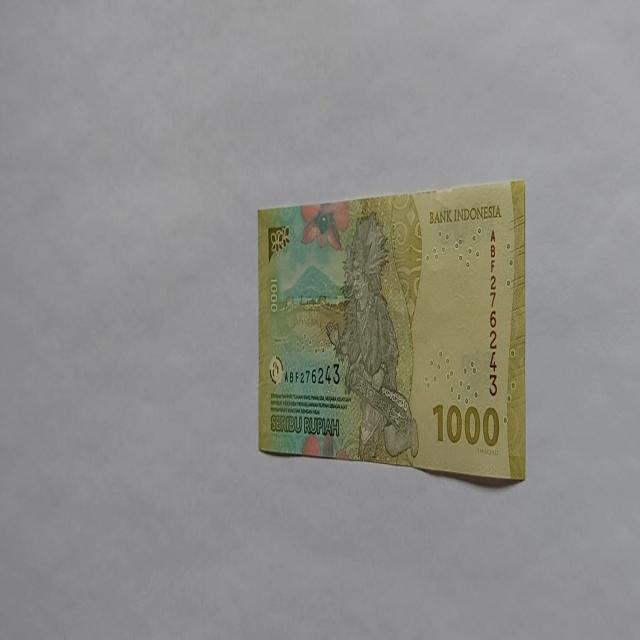seribu rupiah kertas: (256, 178, 526, 484)
